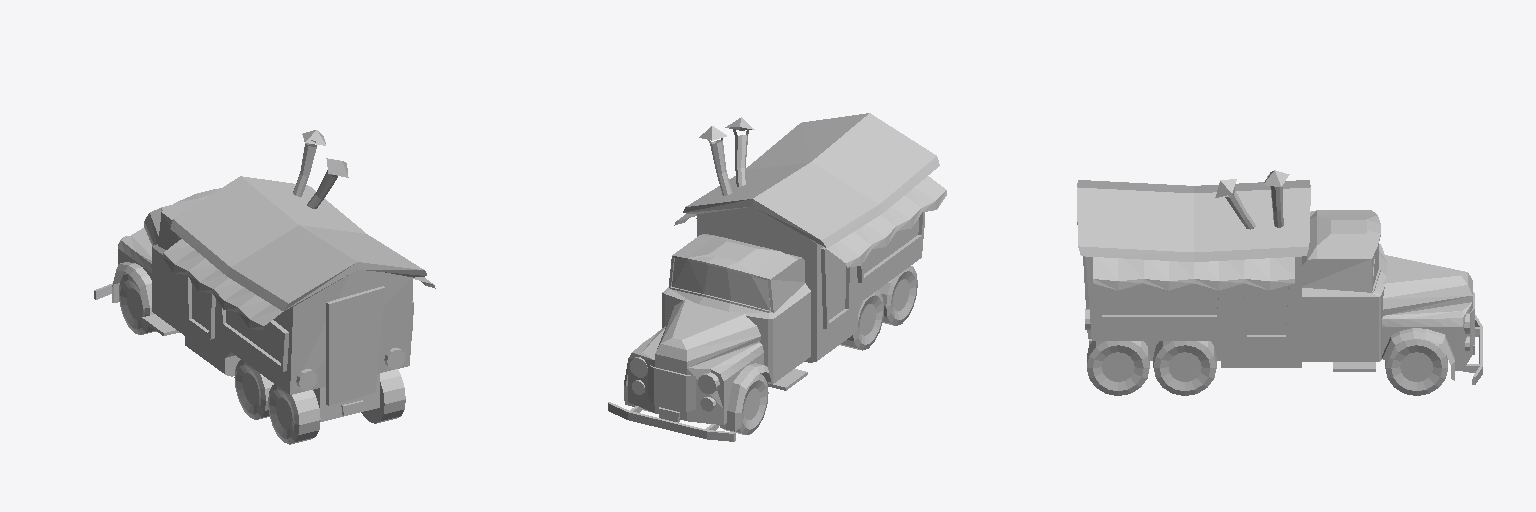
File: ice_cream_truck.obj
3 renders of one model, left to right at view 1: azimuth 30°, elevation 25°; view 2: azimuth 150°, elevation 25°; view 3: azimuth 270°, elevation 25°, orthographic.
Parts seen in each view (by area): view 1: ice_cream_truck:Mesh; view 2: ice_cream_truck:Mesh; view 3: ice_cream_truck:Mesh.
Part boxes in pixels (x1,y1,x2,y2): ice_cream_truck:Mesh: (94,130,435,444); ice_cream_truck:Mesh: (608,113,946,441); ice_cream_truck:Mesh: (1077,170,1482,395).
Bounding box in the file's own units: 2.95 × 3.66 × 5.9.